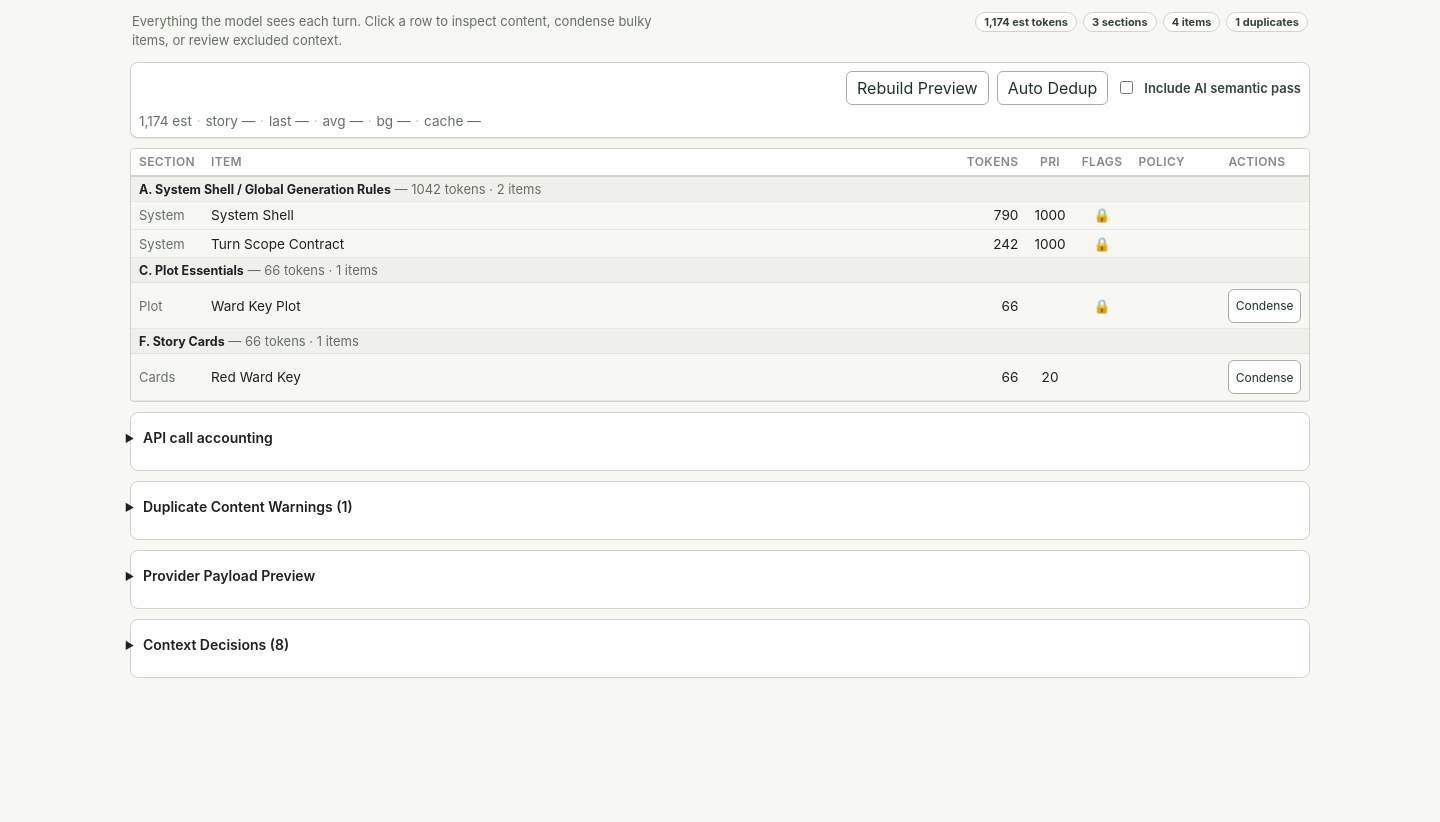
ContextPreviewPage condense › runs Auto Dedup deterministically unless the AI pass is checked
What coordinates should you click on to do the following:
click the button "Auto Dedup"
I would click on:
 (1052, 88)
Its box is top-left (997, 71), bottom-right (1108, 105).
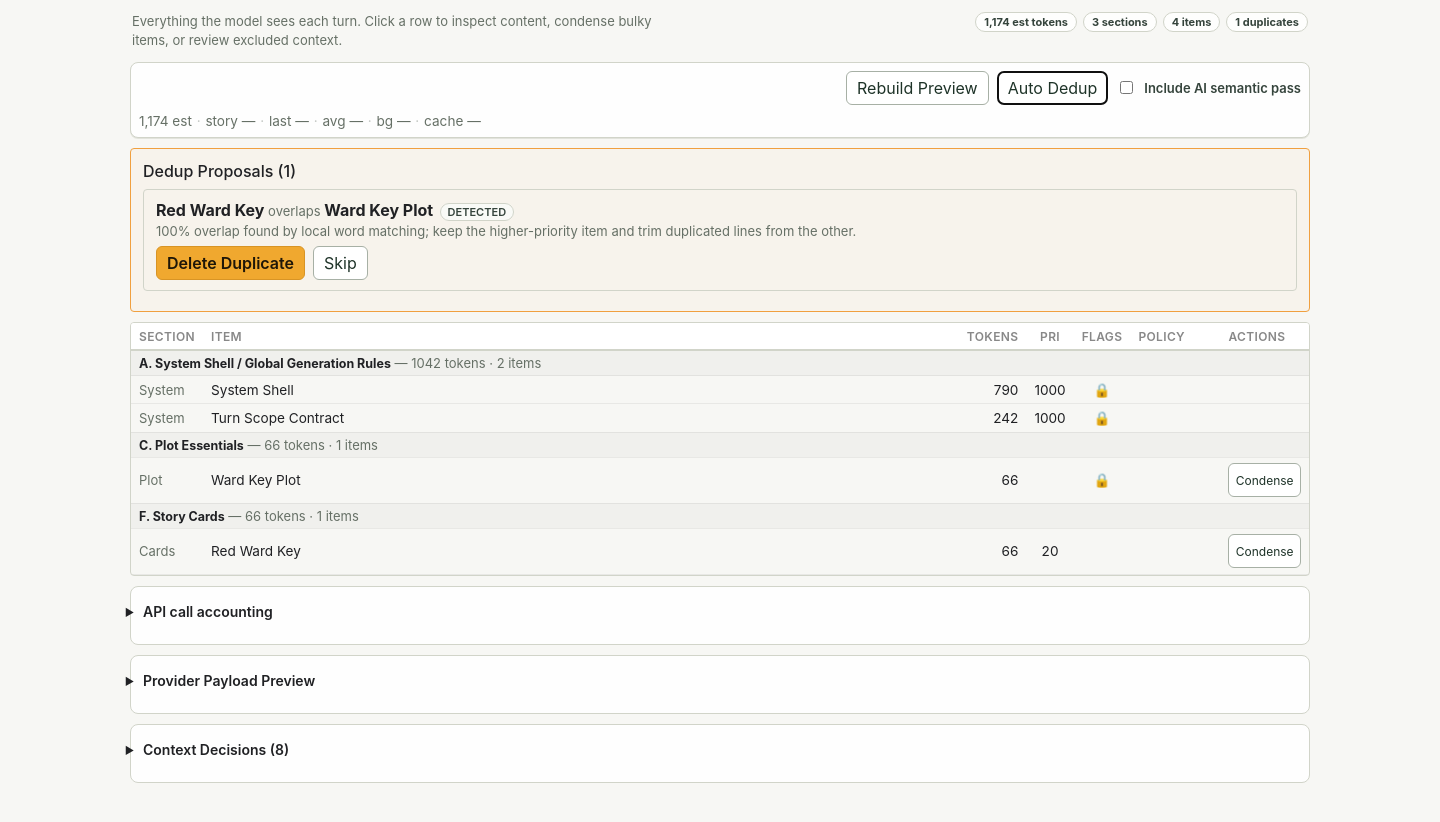
Now the text "DETECTED" is shown, box top-left (440, 203), bottom-right (514, 221)
Now the button "Delete Duplicate" is shown, box top-left (156, 246), bottom-right (305, 280)
